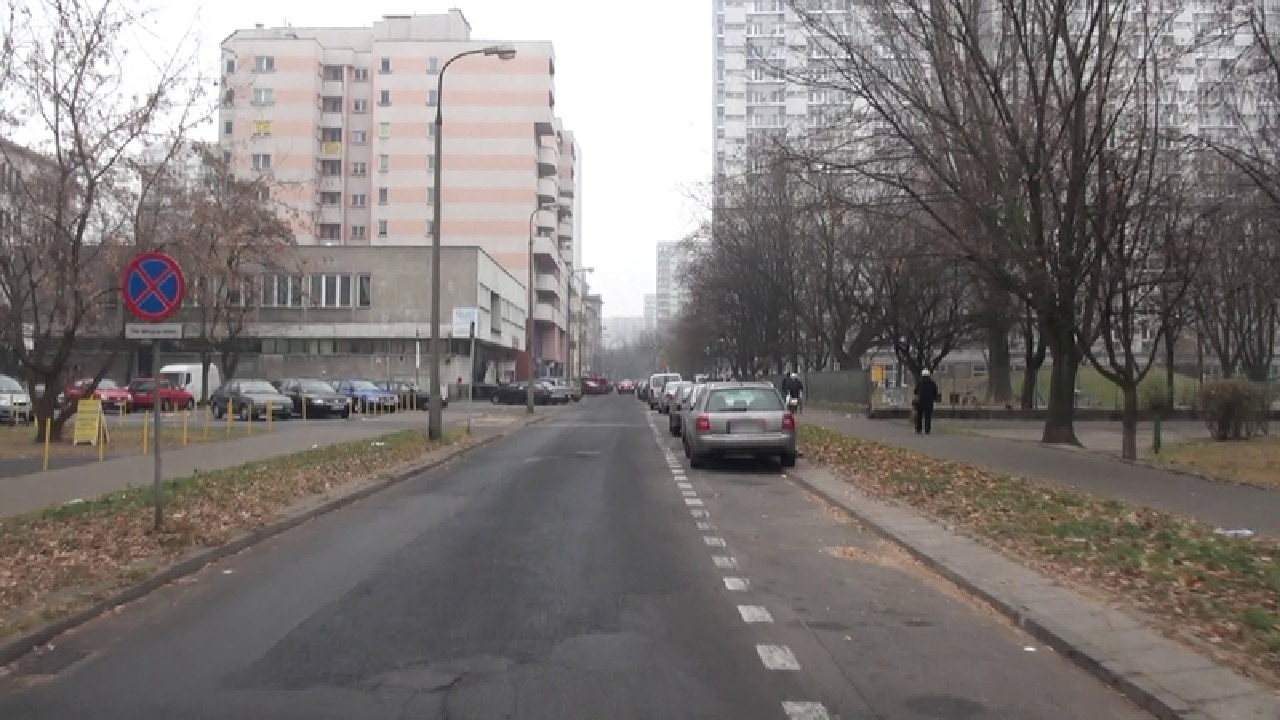B36: (121, 253, 186, 320)
